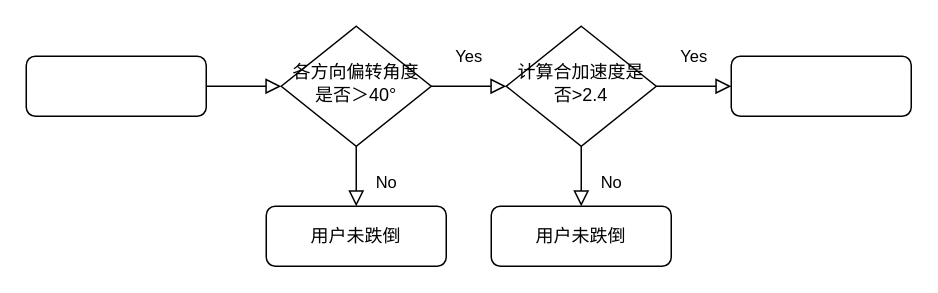
Some shapes in this 938 by 293 pixel diagram are drawn without their labels. The box of each missing label's shape, as (x1, y1, x2, y2) in pixels:
用户跌倒: (730, 55, 911, 116)
读取原始数据: (25, 55, 206, 116)
